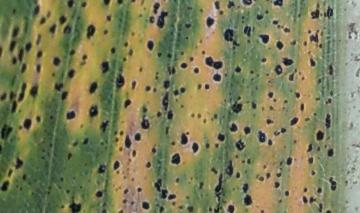tarspot: (157, 12, 169, 27), (309, 29, 320, 43), (115, 73, 124, 89), (215, 174, 223, 192), (170, 152, 181, 165), (140, 115, 150, 129), (18, 84, 26, 101), (225, 160, 233, 177), (163, 91, 170, 110), (257, 33, 269, 44), (231, 100, 242, 112), (224, 28, 234, 41), (324, 6, 334, 19), (281, 56, 294, 66), (328, 177, 337, 191), (65, 110, 76, 121), (309, 8, 320, 19), (100, 61, 110, 73), (235, 139, 245, 151), (69, 203, 81, 213), (1, 179, 10, 192), (87, 25, 95, 39), (243, 24, 251, 38), (324, 113, 331, 129), (154, 178, 162, 192), (88, 105, 98, 116), (29, 85, 38, 97), (89, 82, 98, 94), (205, 15, 214, 27), (204, 55, 213, 67), (101, 120, 109, 133), (258, 130, 266, 143), (244, 195, 253, 206), (10, 99, 17, 113), (125, 134, 132, 148), (1, 123, 7, 139), (191, 141, 199, 153), (274, 63, 282, 75), (17, 49, 24, 62), (181, 132, 188, 145), (327, 63, 334, 76), (15, 157, 23, 168), (24, 118, 32, 129), (275, 40, 283, 51), (54, 82, 63, 91), (24, 41, 32, 51), (49, 24, 57, 34), (68, 69, 76, 79), (146, 40, 154, 50), (217, 132, 225, 142), (213, 61, 223, 69), (211, 74, 221, 82), (316, 131, 324, 141), (305, 143, 313, 153), (9, 41, 16, 52), (12, 27, 19, 38), (35, 34, 42, 45), (130, 79, 137, 90), (152, 3, 159, 14), (213, 202, 220, 213), (58, 16, 67, 24), (63, 26, 71, 35), (53, 57, 61, 66), (98, 164, 106, 173), (255, 12, 263, 21), (290, 117, 298, 126), (229, 123, 237, 132), (243, 126, 251, 135), (161, 188, 167, 200), (142, 201, 150, 210), (33, 6, 40, 16), (36, 49, 43, 59), (113, 160, 120, 170), (124, 98, 131, 108), (309, 58, 316, 68), (35, 63, 41, 74), (6, 127, 12, 138), (67, 1, 75, 9), (180, 62, 188, 70), (210, 167, 218, 175), (227, 205, 235, 213), (61, 91, 68, 100), (134, 132, 141, 141), (105, 14, 112, 23), (163, 80, 170, 89), (213, 1, 220, 10), (274, 1, 284, 7), (299, 102, 305, 112), (242, 183, 248, 193), (215, 192, 221, 202), (39, 17, 46, 25), (80, 1, 88, 8), (35, 115, 42, 123), (227, 1, 235, 8), (283, 26, 291, 33), (265, 118, 273, 125), (274, 181, 281, 189), (186, 206, 194, 213), (95, 190, 103, 197), (318, 202, 323, 213), (1, 92, 7, 101), (167, 110, 173, 119), (328, 148, 334, 157), (288, 72, 294, 81), (251, 100, 257, 109), (302, 195, 308, 204), (7, 168, 13, 177), (21, 63, 26, 73), (171, 65, 176, 75), (69, 49, 76, 56), (9, 92, 16, 99), (137, 66, 144, 73), (142, 106, 149, 113), (145, 161, 152, 168), (166, 52, 173, 59), (193, 66, 200, 73), (234, 66, 241, 73), (290, 39, 297, 46), (267, 91, 274, 98), (221, 198, 228, 205), (136, 186, 143, 193), (11, 8, 17, 16), (11, 57, 17, 65), (79, 60, 87, 66), (128, 48, 134, 56), (150, 146, 156, 154), (149, 16, 155, 24), (165, 127, 171, 135), (184, 23, 192, 29), (180, 86, 186, 94), (204, 82, 210, 90), (318, 29, 324, 37), (303, 116, 311, 122), (310, 196, 316, 204), (235, 171, 241, 179), (101, 200, 107, 208), (167, 67, 172, 76), (1, 44, 4, 58), (72, 141, 79, 147), (83, 138, 89, 145), (110, 47, 116, 54), (102, 28, 108, 35), (123, 41, 129, 48), (185, 5, 192, 11), (173, 90, 180, 96), (233, 40, 240, 46), (268, 105, 275, 111), (310, 169, 316, 176), (275, 172, 282, 178), (258, 175, 264, 182), (198, 182, 204, 189), (174, 177, 180, 184), (46, 184, 52, 191), (46, 10, 51, 18), (67, 152, 72, 160), (205, 142, 210, 150), (242, 1, 252, 5), (329, 88, 334, 96), (308, 156, 313, 164), (268, 139, 273, 147), (168, 194, 176, 199), (22, 173, 27, 181), (152, 87, 158, 93), (170, 140, 176, 146), (197, 84, 203, 90), (198, 7, 204, 13), (218, 10, 224, 16), (274, 130, 280, 136), (280, 127, 286, 133), (246, 158, 252, 164), (284, 191, 290, 197), (121, 198, 127, 204), (71, 194, 75, 203), (104, 1, 111, 6), (145, 85, 150, 92), (157, 51, 162, 58), (153, 75, 160, 80), (156, 111, 161, 118), (179, 103, 184, 110), (189, 112, 196, 117), (315, 1, 320, 8), (327, 97, 332, 104), (316, 145, 321, 152), (228, 97, 233, 104), (295, 92, 300, 99), (244, 99, 251, 104), (260, 105, 265, 112), (287, 158, 292, 165), (317, 187, 322, 194), (303, 186, 308, 193), (159, 206, 164, 213), (117, 208, 124, 213), (197, 111, 201, 119), (51, 72, 56, 78), (49, 114, 54, 120), (82, 54, 87, 60), (83, 162, 89, 167), (118, 146, 123, 152), (127, 157, 132, 163), (122, 56, 127, 62), (214, 142, 219, 148), (210, 117, 215, 123), (189, 56, 194, 62), (200, 50, 206, 55), (302, 40, 307, 46), (318, 43, 323, 49), (326, 135, 331, 141), (312, 111, 318, 116), (317, 78, 322, 84), (264, 9, 269, 15), (272, 20, 278, 25), (261, 57, 266, 63), (266, 46, 272, 51), (297, 70, 302, 76), (300, 75, 305, 81), (266, 79, 272, 84), (283, 99, 289, 104), (262, 164, 267, 170), (266, 173, 271, 179), (120, 119, 126, 124), (123, 188, 128, 194), (59, 176, 64, 182), (19, 186, 24, 192), (132, 150, 136, 157), (117, 1, 124, 5), (137, 14, 144, 18), (244, 168, 248, 175), (15, 183, 19, 190), (18, 125, 23, 130), (49, 143, 54, 148), (113, 130, 118, 135), (100, 141, 105, 146), (143, 6, 148, 11), (155, 71, 160, 76), (177, 32, 182, 37), (180, 50, 185, 55), (223, 72, 228, 77), (240, 15, 245, 20), (222, 98, 227, 103), (249, 69, 254, 74), (237, 96, 242, 101), (288, 88, 293, 93), (272, 98, 277, 103), (234, 154, 239, 159), (241, 159, 246, 164), (231, 186, 236, 191), (185, 195, 190, 200), (178, 205, 183, 210), (154, 197, 159, 202), (115, 170, 120, 175), (125, 166, 130, 171), (111, 183, 116, 188), (78, 185, 83, 190), (72, 176, 77, 181), (65, 189, 70, 194), (60, 204, 65, 209), (30, 191, 35, 196), (33, 1, 39, 5), (77, 15, 81, 21), (41, 155, 45, 161), (80, 123, 84, 129), (115, 137, 119, 143), (119, 130, 123, 136), (174, 97, 178, 103), (203, 118, 207, 124), (252, 25, 255, 33), (349, 31, 352, 39), (297, 12, 301, 18), (315, 97, 321, 101), (293, 67, 297, 73), (256, 72, 260, 78), (254, 85, 258, 91), (325, 209, 331, 213), (255, 173, 259, 179), (208, 207, 212, 213), (172, 201, 176, 207), (101, 209, 107, 213), (190, 175, 193, 182), (1, 143, 3, 153), (131, 31, 135, 36), (140, 1, 145, 5), (170, 24, 175, 28), (186, 131, 190, 136), (214, 114, 218, 119), (232, 45, 236, 50), (246, 40, 251, 44), (240, 20, 245, 24), (237, 4, 241, 9), (307, 30, 312, 34), (324, 144, 328, 149), (277, 24, 281, 29), (250, 77, 255, 81), (282, 105, 286, 110), (293, 139, 297, 144), (279, 160, 283, 165), (279, 166, 283, 171), (283, 144, 287, 149), (344, 180, 348, 185), (155, 202, 159, 207), (131, 177, 135, 182), (122, 175, 127, 179), (118, 185, 122, 190), (57, 186, 62, 190), (199, 38, 202, 44), (320, 12, 323, 18), (229, 91, 232, 97), (222, 191, 225, 197), (131, 200, 134, 206), (18, 109, 22, 113), (42, 148, 46, 152), (185, 36, 189, 40), (170, 32, 174, 36), (194, 45, 198, 49), (293, 157, 297, 161), (278, 199, 282, 203), (260, 209, 264, 213), (47, 191, 51, 195), (222, 114, 225, 119), (266, 72, 269, 77), (130, 1, 137, 3), (308, 51, 312, 54), (220, 206, 223, 210)
